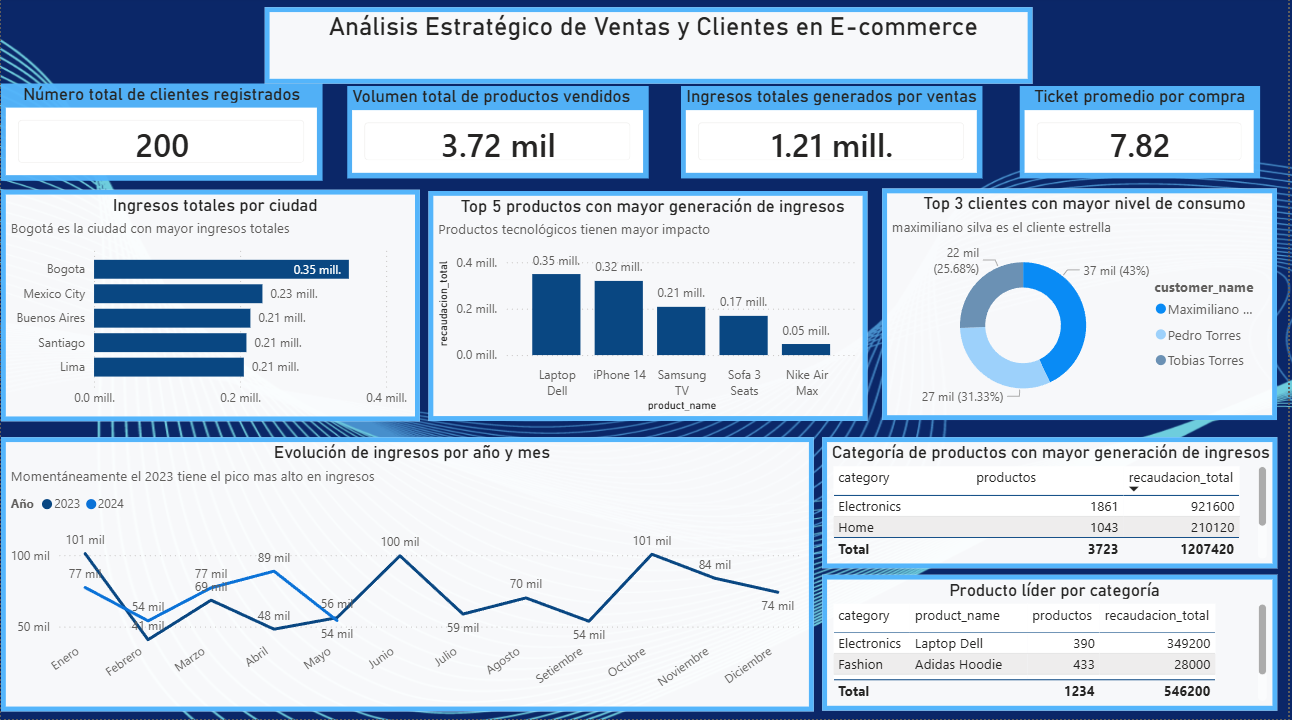

The page's visual inventory and layout, read from the dashboard file:
{"tool":"powerbi","page":{"name":"Página 1","canvas":[1280,720],"ordinal":0},"visuals":[{"type":"cardVisual","title":"Número total de clientes registrados","fields":{"Data":["customers.clientes"]},"box":[0,87.1,319.7,97],"z":0},{"type":"cardVisual","title":"Volumen total de productos vendidos","fields":{"Data":["order_items.productos"]},"box":[344.6,89.6,299.8,92.1],"z":1},{"type":"cardVisual","title":"Ingresos totales generados por ventas","fields":{"Data":["order_items.recaudacion_total"]},"box":[676.7,89.6,299.8,92.1],"z":2},{"type":"cardVisual","title":"Ticket promedio por compra","fields":{"Data":["order_items.promedio_compra"]},"box":[1013.8,89.6,238.8,92.1],"z":3},{"type":"clusteredBarChart","title":"Ingresos totales por ciudad","fields":{"Y":["order_items.recaudacion_total"],"Category":["customers.city"]},"box":[0,192.8,416.7,230.1],"z":4},{"type":"lineChart","title":"Evolución de ingresos por año y mes","fields":{"Category":["orders.order_date.Variación.Jerarquía de fechas.Mes"],"Y":["order_items.recaudacion_total"],"Series":["orders.order_date.Variación.Jerarquía de fechas.Año"]},"box":[0,439.1,808.6,272.4],"z":5},{"type":"columnChart","title":"Top 5 productos con mayor generación de ingresos","fields":{"Category":["products.product_name"],"Y":["order_items.recaudacion_total"]},"box":[425.4,194.1,436.6,228.9],"z":6},{"type":"donutChart","title":"Top 3 clientes con mayor nivel de consumo","fields":{"Category":["customers.customer_name"],"Y":["order_items.recaudacion_total"]},"box":[877,191.6,393.1,230.1],"z":7},{"type":"tableEx","title":"Categoría de productos con mayor generación de ingresos","fields":{"Values":["products.category","order_items.productos","order_items.recaudacion_total"]},"box":[817.3,439.1,452.8,130.6],"z":8},{"type":"tableEx","title":"Producto líder por categoría","fields":{"Values":["products.category","products.product_name","order_items.productos","order_items.recaudacion_total"]},"box":[817.3,576,452.8,135.6],"z":9},{"type":"textbox","title":"Análisis Estratégico de Ventas y Clientes en E-commerce","box":[262.5,11.2,763.8,75.9],"z":10}]}

Visuals, with their boxes in screenshot pixels (x1, y1, x2, y2), scaled from the page's 1280x720 canvas onto the 1292x720 screenshot:
"Número total de clientes registrados" cardVisual: l=0, t=87, r=323, b=184
"Volumen total de productos vendidos" cardVisual: l=348, t=90, r=650, b=182
"Ingresos totales generados por ventas" cardVisual: l=683, t=90, r=986, b=182
"Ticket promedio por compra" cardVisual: l=1023, t=90, r=1264, b=182
"Ingresos totales por ciudad" clusteredBarChart: l=0, t=193, r=421, b=423
"Evolución de ingresos por año y mes" lineChart: l=0, t=439, r=816, b=712
"Top 5 productos con mayor generación de ingresos" columnChart: l=429, t=194, r=870, b=423
"Top 3 clientes con mayor nivel de consumo" donutChart: l=885, t=192, r=1282, b=422
"Categoría de productos con mayor generación de ingresos" tableEx: l=825, t=439, r=1282, b=570
"Producto líder por categoría" tableEx: l=825, t=576, r=1282, b=712
"Análisis Estratégico de Ventas y Clientes en E-commerce" textbox: l=265, t=11, r=1036, b=87
